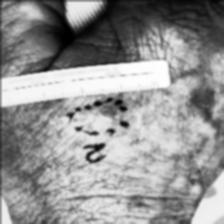Potentially Malignant Skin Tumors: (82, 110, 113, 126)
